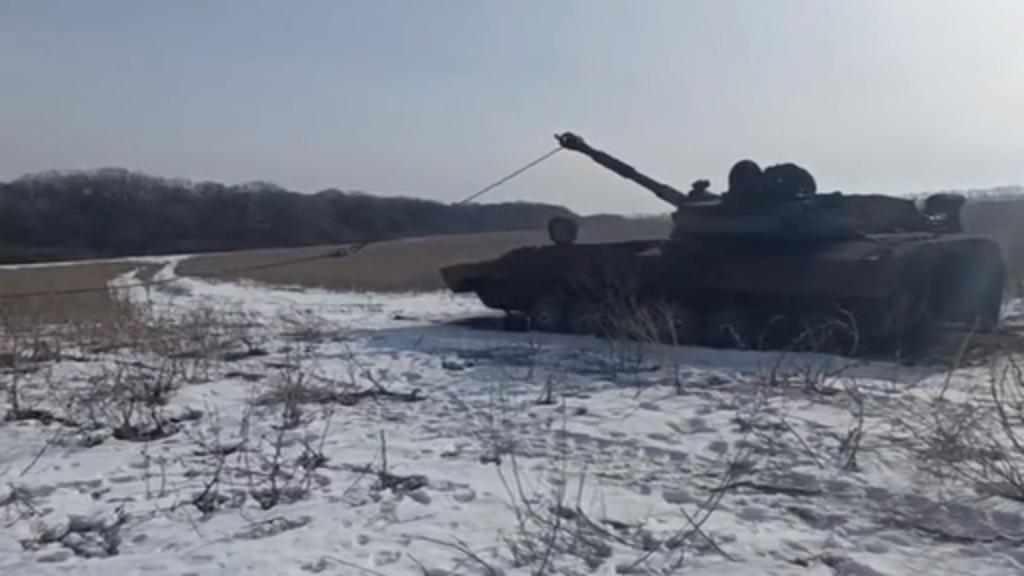ART: (440, 126, 1010, 360)
